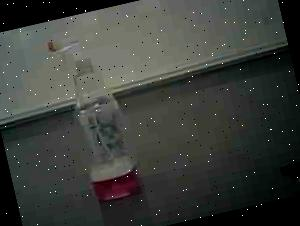hazard: (44, 24, 149, 208)
